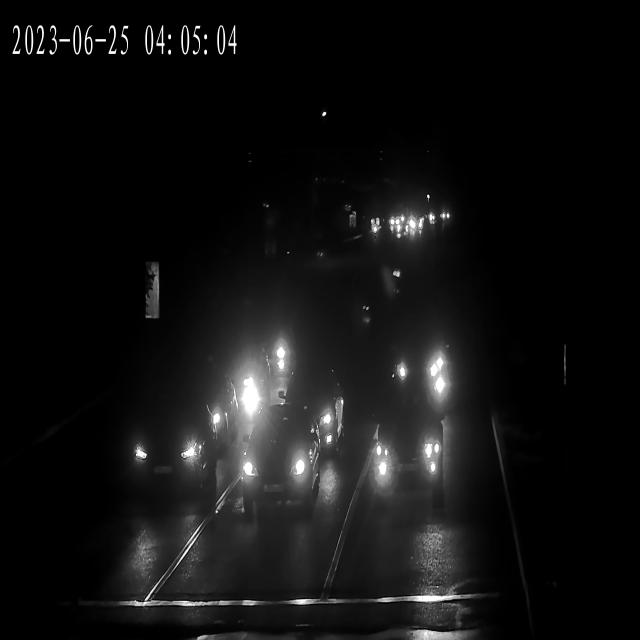Car: (116, 401, 220, 496), (234, 421, 320, 524), (232, 294, 294, 411), (379, 318, 458, 409), (366, 416, 446, 503), (193, 348, 257, 439), (286, 372, 352, 460), (391, 225, 420, 241), (404, 218, 424, 235)
